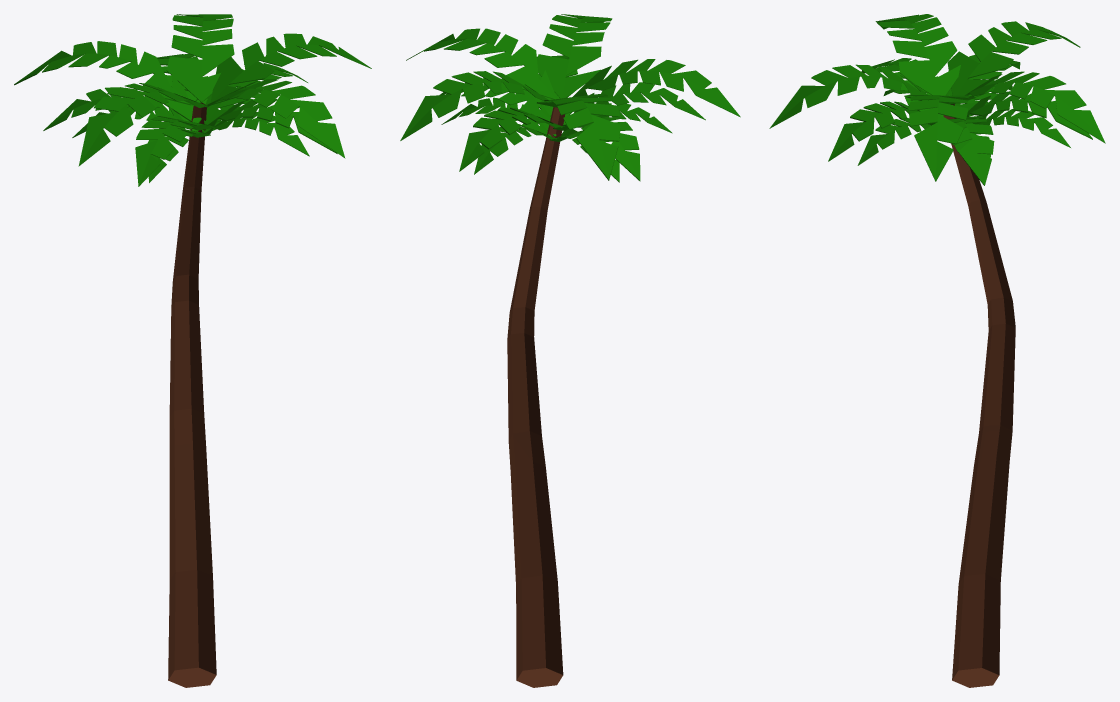
The model's file is palmeira_palm_tree.glb.
3 renders of one model, left to right at view 1: azimuth 30°, elevation 25°; view 2: azimuth 150°, elevation 25°; view 3: azimuth 270°, elevation 25°, orthographic. The views are drawn at different scales.
Visible parts, largest first — view 1: Cylinder.001; view 2: Cylinder.001; view 3: Cylinder.001.
Boxes of the visible parts, <box> form: Cylinder.001: <box>14,14,371,687</box>; Cylinder.001: <box>400,14,740,687</box>; Cylinder.001: <box>769,14,1105,687</box>.
Bounding box in the file's own units: 22.88 × 42.77 × 21.3.
